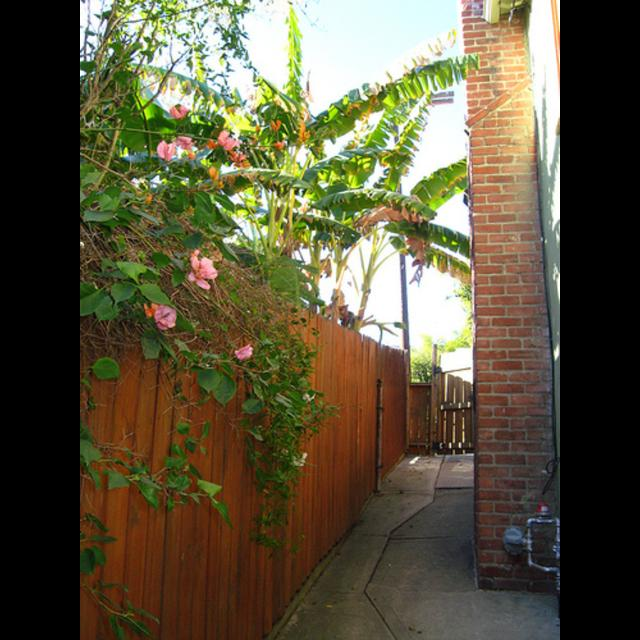Flower: (175, 236, 223, 288), (153, 305, 181, 329), (154, 142, 178, 162), (166, 100, 188, 118), (176, 134, 197, 152), (219, 128, 235, 150), (232, 344, 252, 361)
